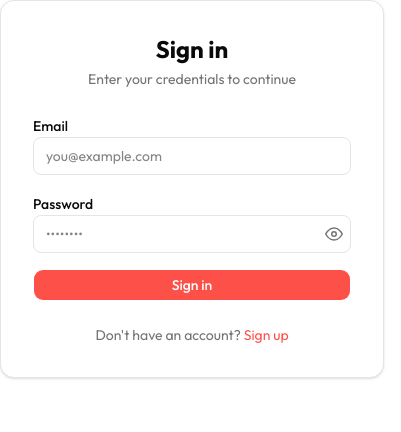
Test case: LoginForm › shows generic error on network failure
Type "user@test.com" into the field labelled "Email" at (192, 156), box [33, 137, 351, 175]
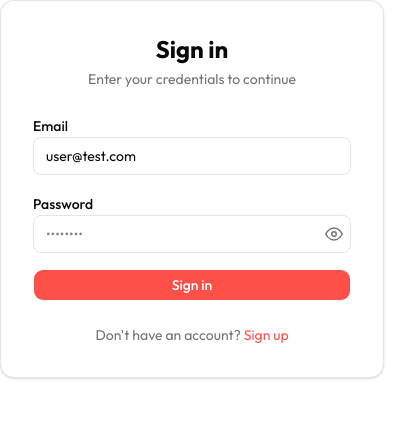
Type "password123" into the password field labelled "Password" at (192, 234), box [33, 215, 351, 253]
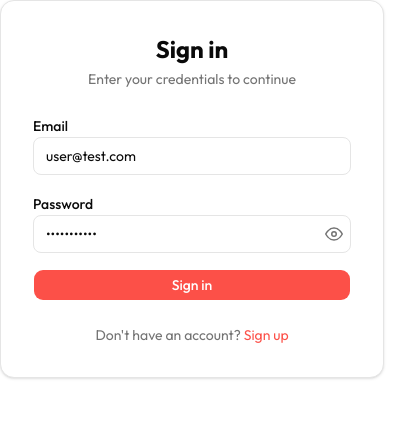
Submit the form "Email Password Sign in", box [33, 113, 351, 301]
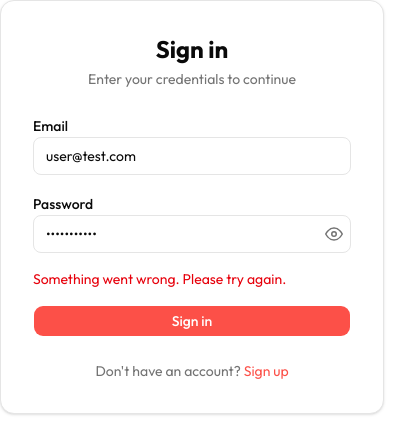
Now the text "Something went wrong. Please try again." is shown, box [33, 270, 286, 288]
